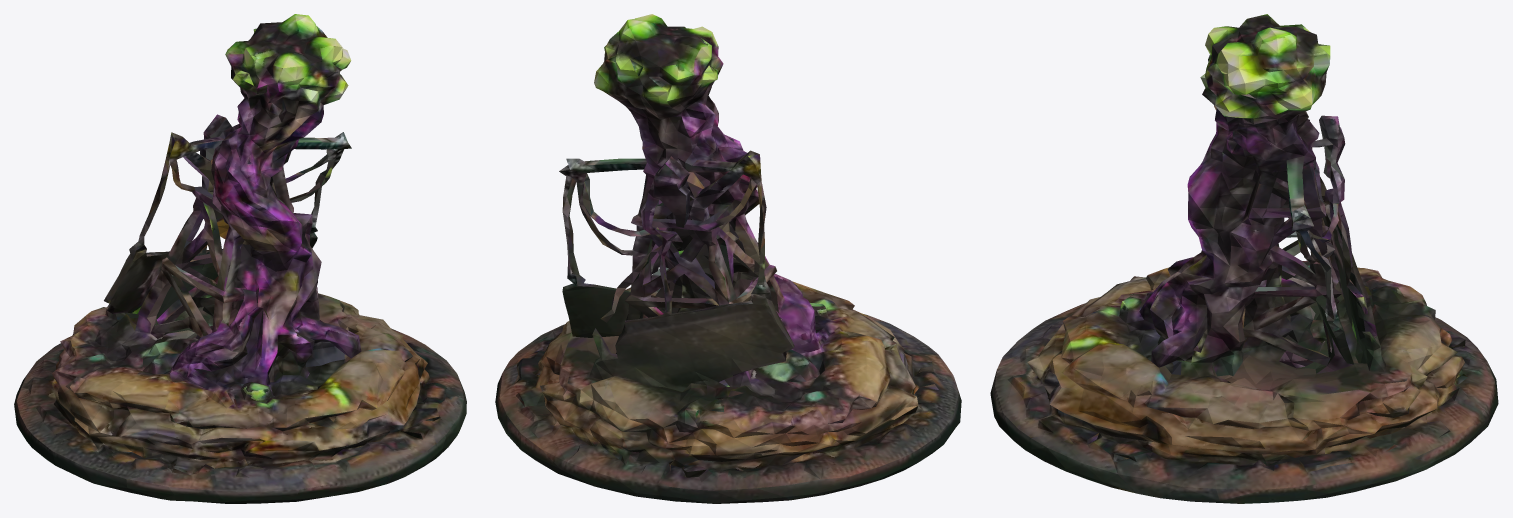
File: creep-spore-spire.glb
3 renders of one model, left to right at view 1: azimuth 30°, elevation 25°; view 2: azimuth 150°, elevation 25°; view 3: azimuth 270°, elevation 25°, orthographic. The views are drawn at different scales.
Parts seen in each view (by area): view 1: tmpfv7iyu8u.ply; view 2: tmpfv7iyu8u.ply; view 3: tmpfv7iyu8u.ply.
Part boxes in pixels (x1,y1,x2,y2): tmpfv7iyu8u.ply: (14,14,466,503); tmpfv7iyu8u.ply: (495,14,961,503); tmpfv7iyu8u.ply: (990,14,1498,503).
Bounding box in the file's own units: 3.4 × 3 × 3.4.
1 material, 1 textured.
